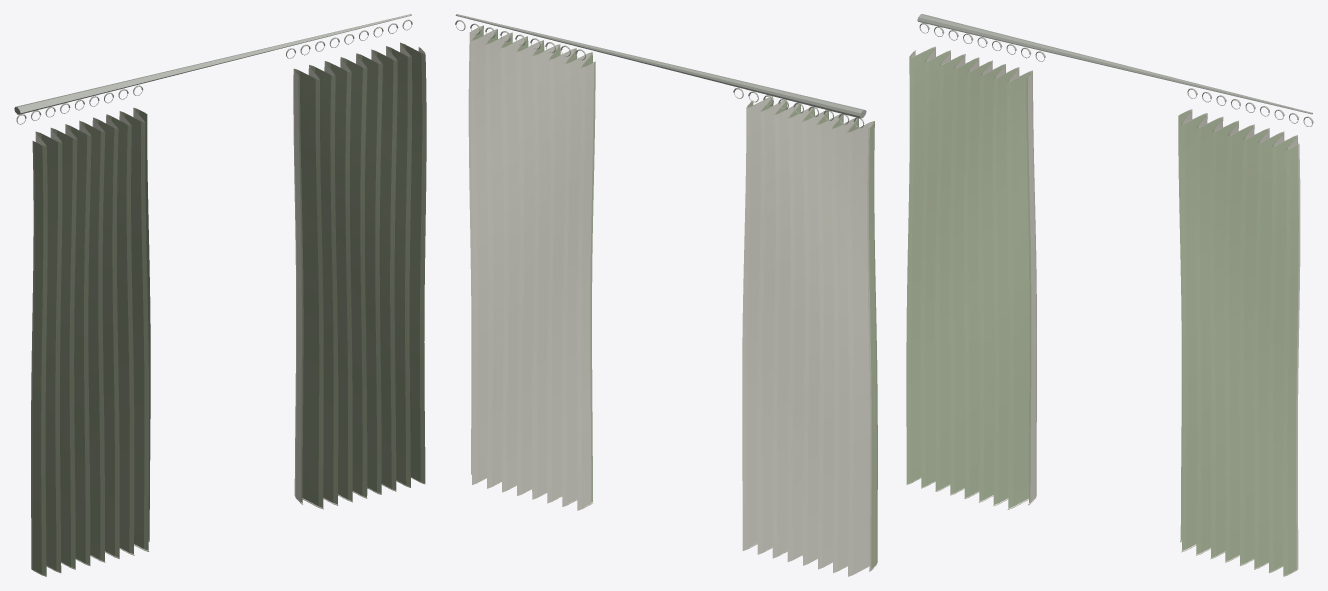
Rendered from curtain-blackout-pair.glb.
3 renders of one model, left to right at view 1: azimuth 30°, elevation 25°; view 2: azimuth 150°, elevation 25°; view 3: azimuth 330°, elevation 25°, orthographic. The views are drawn at different scales.
Parts seen in each view (by area): view 1: curtain-blackout-pair; view 2: curtain-blackout-pair; view 3: curtain-blackout-pair.
Boxes of the visible parts, left/top/right/bottom form: curtain-blackout-pair: left=14, top=14, right=426, bottom=576; curtain-blackout-pair: left=455, top=14, right=877, bottom=576; curtain-blackout-pair: left=906, top=14, right=1313, bottom=576.
Bounding box in the file's own units: 2 × 2.2 × 0.22.
